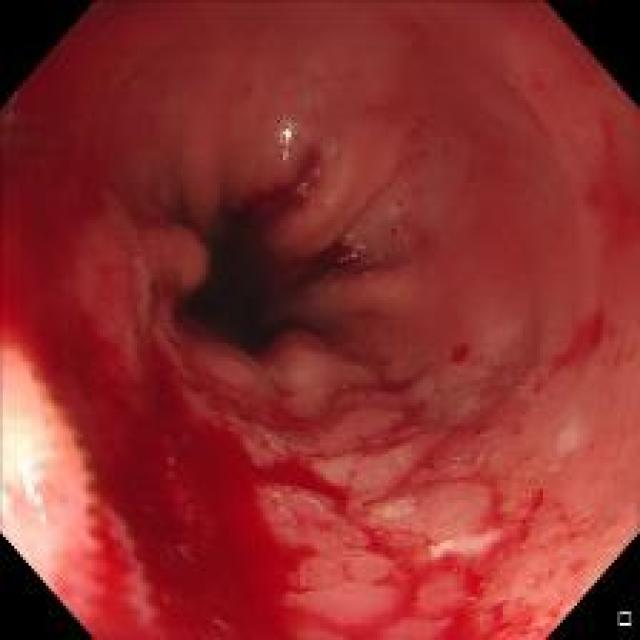blood: (29, 329, 372, 632), (358, 520, 548, 635), (374, 378, 558, 470), (242, 150, 322, 240), (299, 241, 359, 282)
contrast: (145, 184, 366, 375)
saturation: (2, 339, 85, 615)
specularity: (279, 124, 295, 144)
